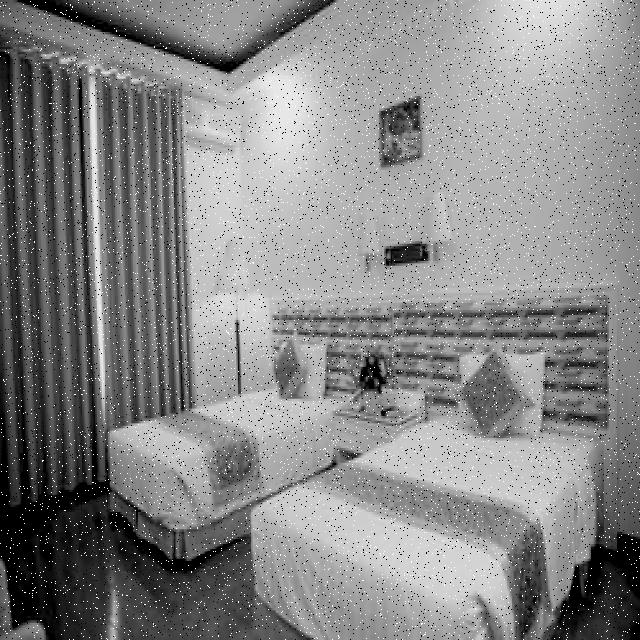bed: (259, 349, 599, 640), (104, 338, 321, 542)
